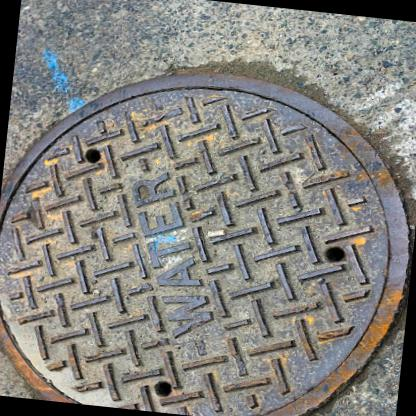manholes: (0, 30, 416, 416)
